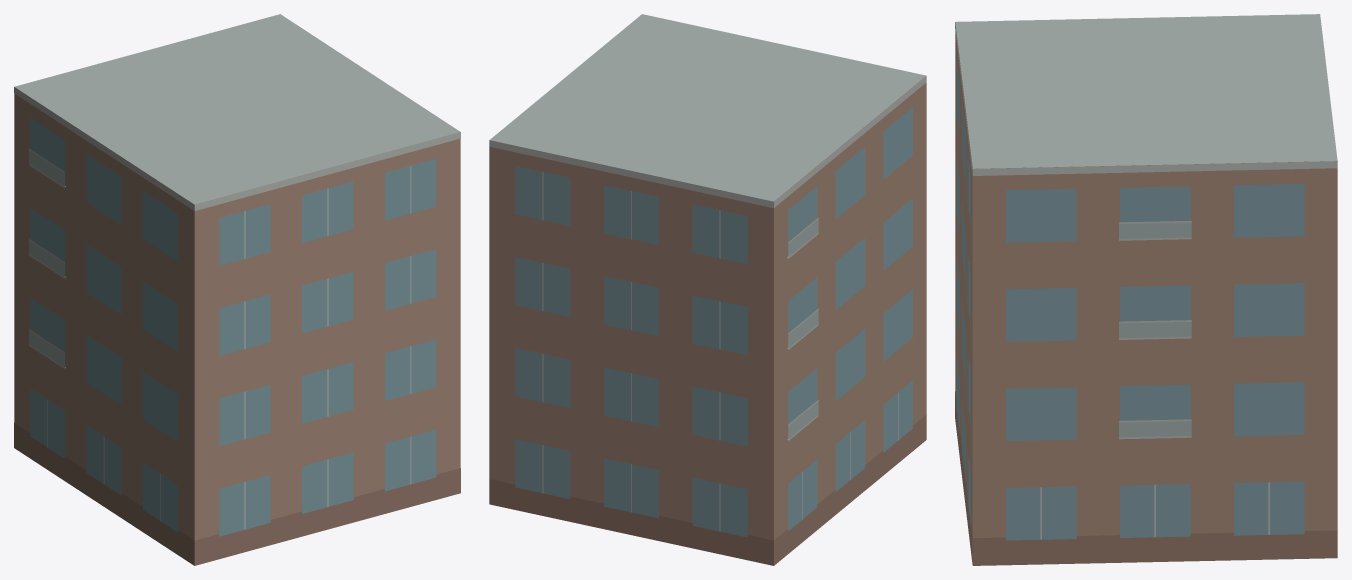
File: survey-upis-32597170.glb
The picture shows the model from 3 angles, left to right: view 1: azimuth 30°, elevation 25°; view 2: azimuth 150°, elevation 25°; view 3: azimuth 270°, elevation 25°; orthographic projection. The views are drawn at different scales.
Parts seen in each view (by area): view 1: survey-upis-32597170.tmp; view 2: survey-upis-32597170.tmp; view 3: survey-upis-32597170.tmp.
Part boxes in pixels (x1,y1,x2,y2): survey-upis-32597170.tmp: (14,14,460,565); survey-upis-32597170.tmp: (489,14,926,565); survey-upis-32597170.tmp: (955,14,1337,565).
Size of the model in its own units: 11.3 by 13.5 by 11.79.
